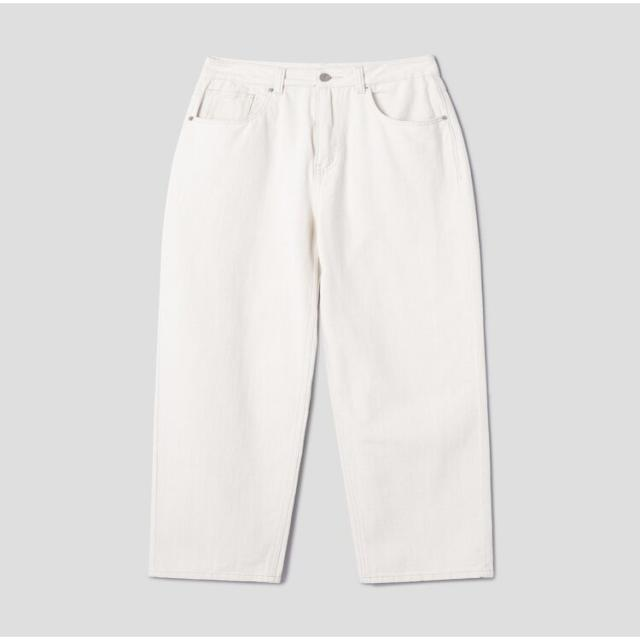long-pants: (148, 56, 499, 589)
